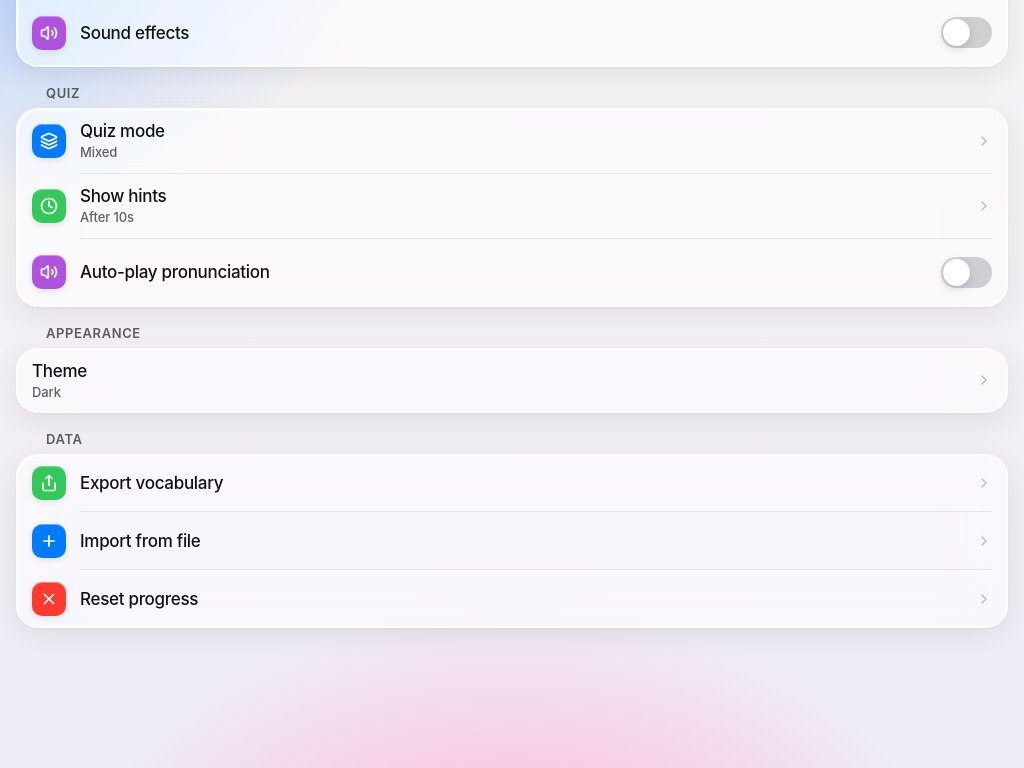
SettingsScreen › should show a toast when Export is tapped with no active pair
(page scrolled)
Click the button "Export vocabulary".
click(49, 483)  # box [16,454,1008,512]
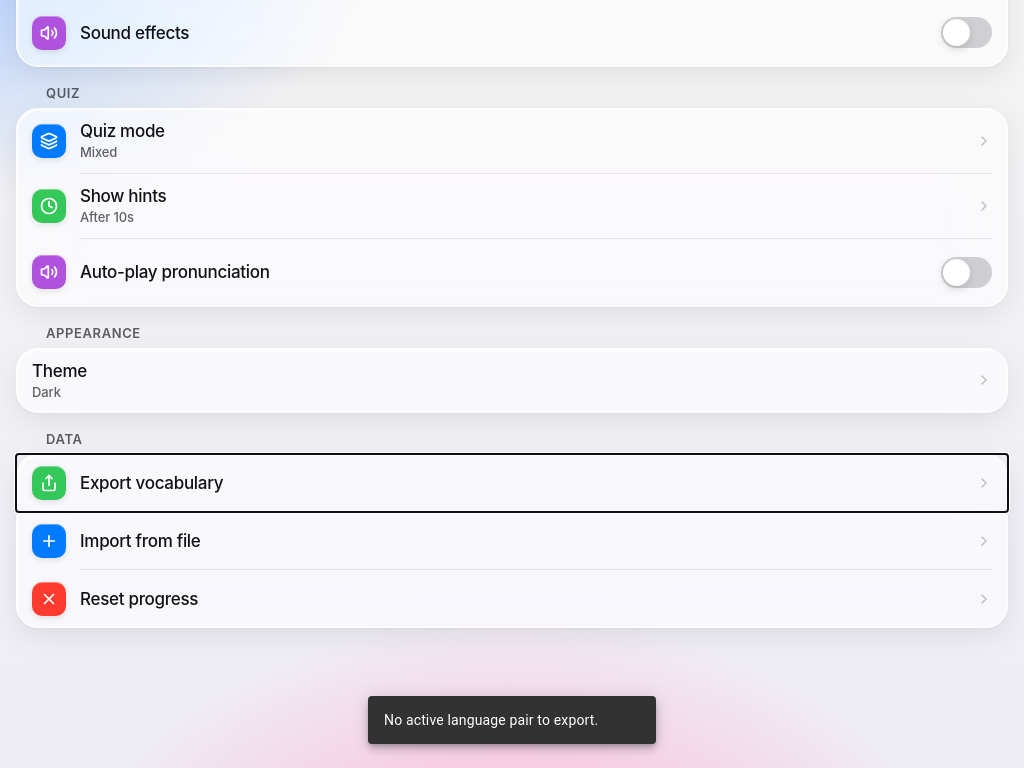
Now the text "No active language pair to export." is shown, box [384,712,598,728]
